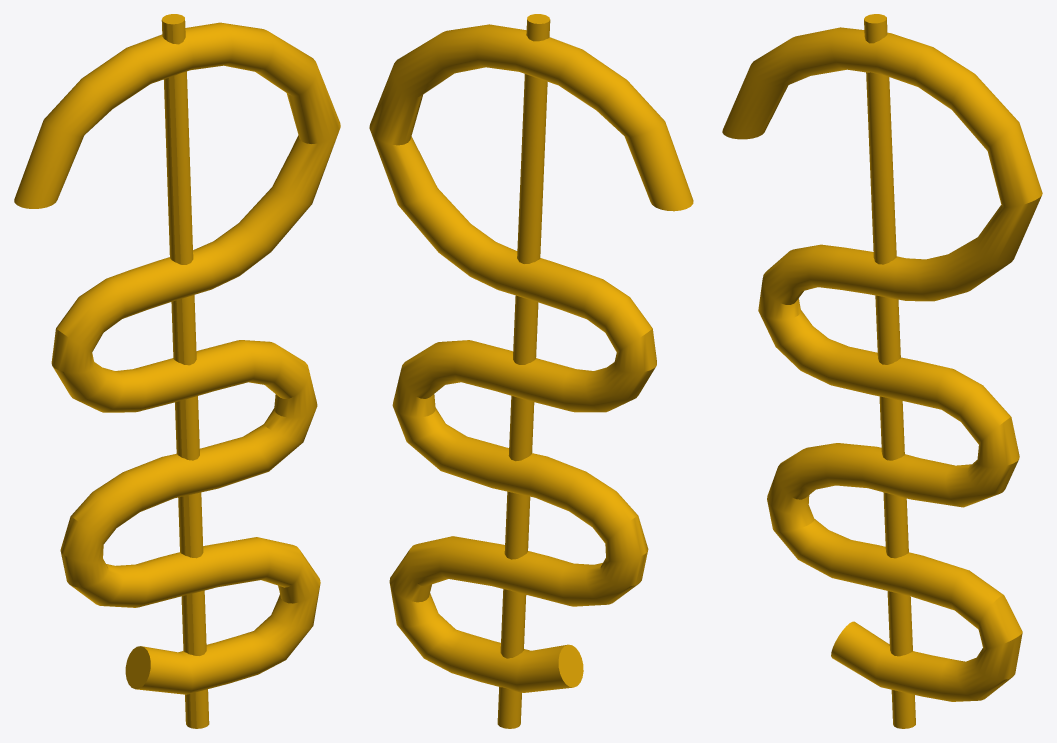
File: Rod_Of_Asclepius.fbx
3 renders of one model, left to right at view 1: azimuth 30°, elevation 25°; view 2: azimuth 150°, elevation 25°; view 3: azimuth 330°, elevation 25°, orthographic.
Parts seen in each view (by area): view 1: rod:pCylinder3; view 2: rod:pCylinder3; view 3: rod:pCylinder3.
Boxes of the visible parts, box(x1,y1,x2,y2) form: rod:pCylinder3: box(14, 14, 340, 728); rod:pCylinder3: box(369, 14, 693, 728); rod:pCylinder3: box(722, 14, 1042, 728).
Bounding box in the file's own units: 32.51 × 69.23 × 3.91.
